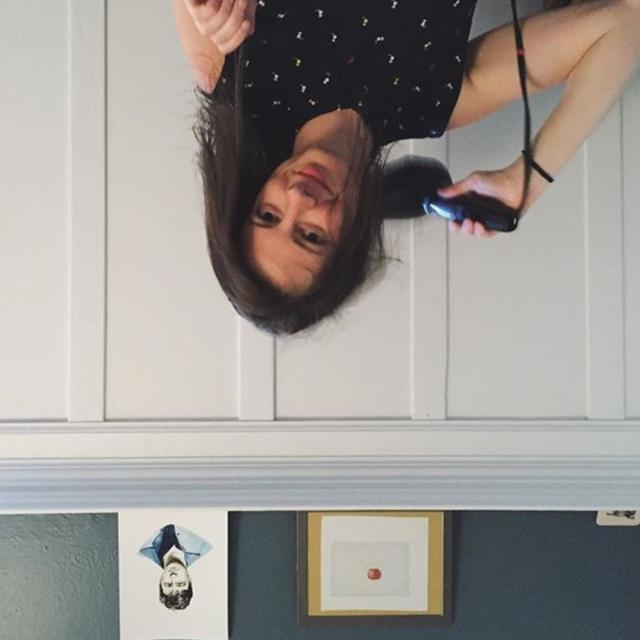dryer: (341, 121, 546, 299)
